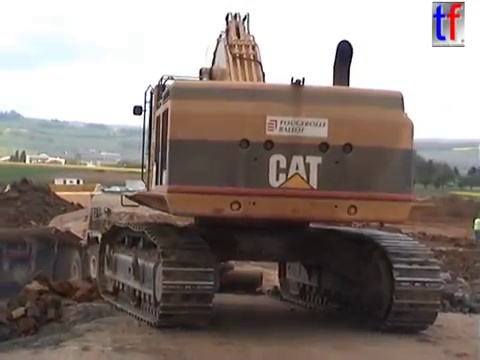excavator: (91, 7, 447, 337)
truck: (1, 179, 115, 309)
worker: (471, 211, 480, 249)
